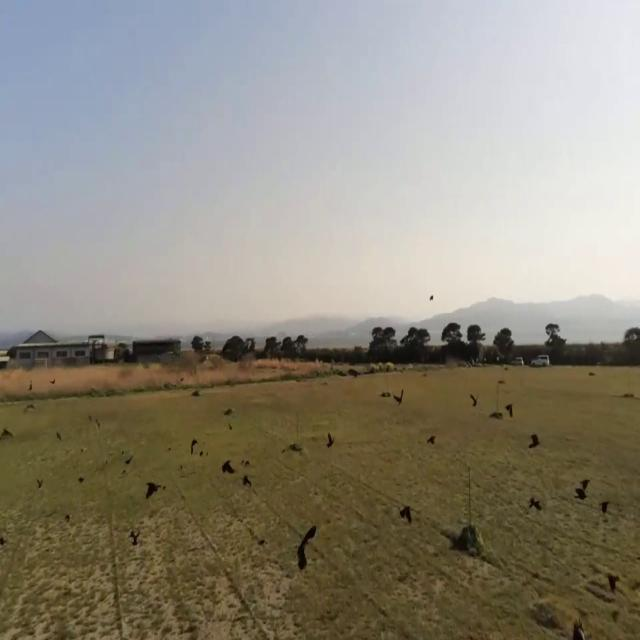bird: (296, 522, 311, 576), (144, 472, 161, 505), (398, 494, 413, 528), (575, 470, 590, 503), (426, 424, 437, 450), (394, 383, 404, 411), (326, 425, 335, 453), (124, 448, 134, 470), (428, 290, 434, 306)
